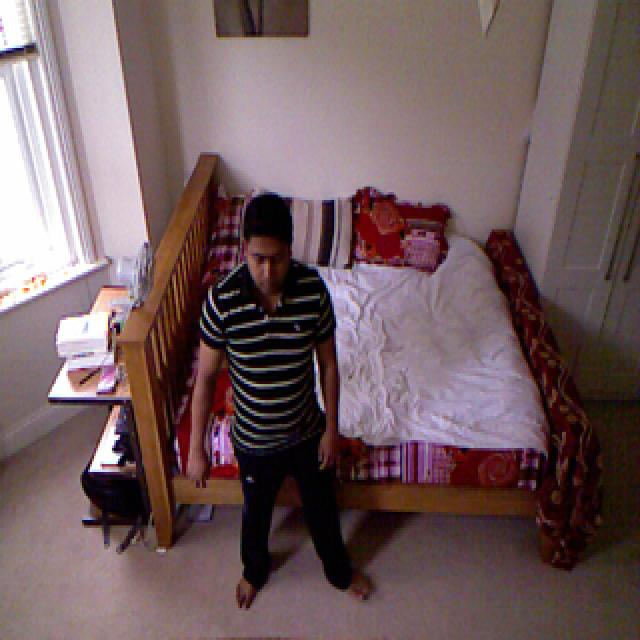standing: (176, 178, 376, 617)
